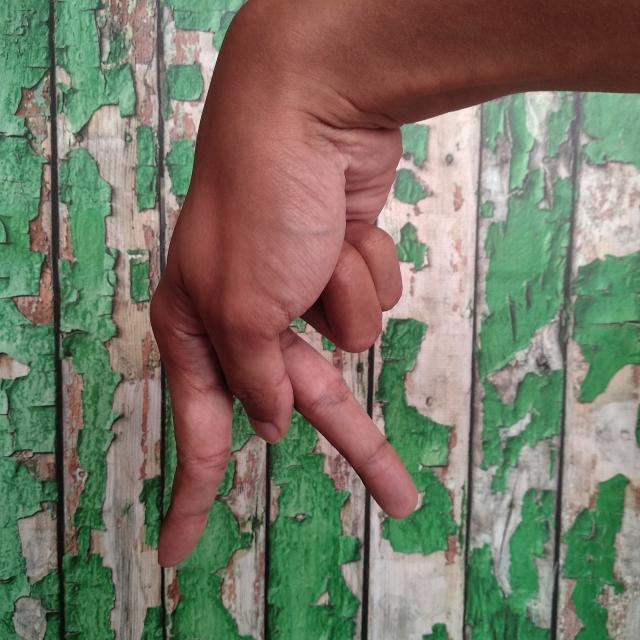P: (142, 0, 640, 572)
